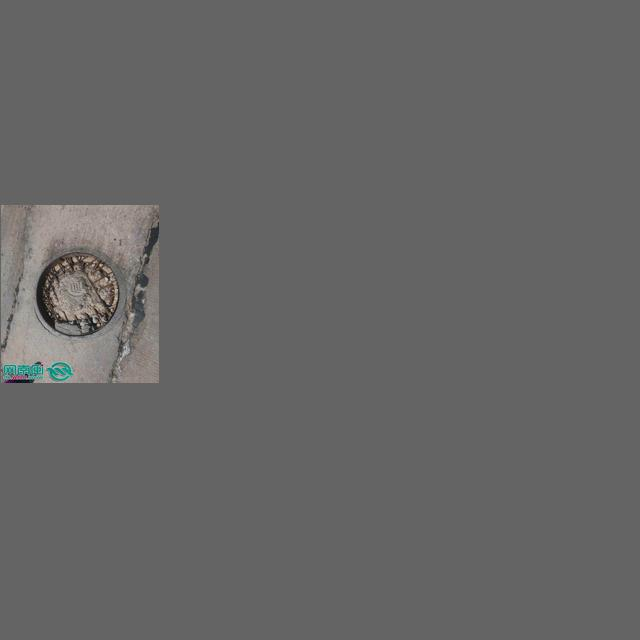broke: (29, 248, 132, 339)
